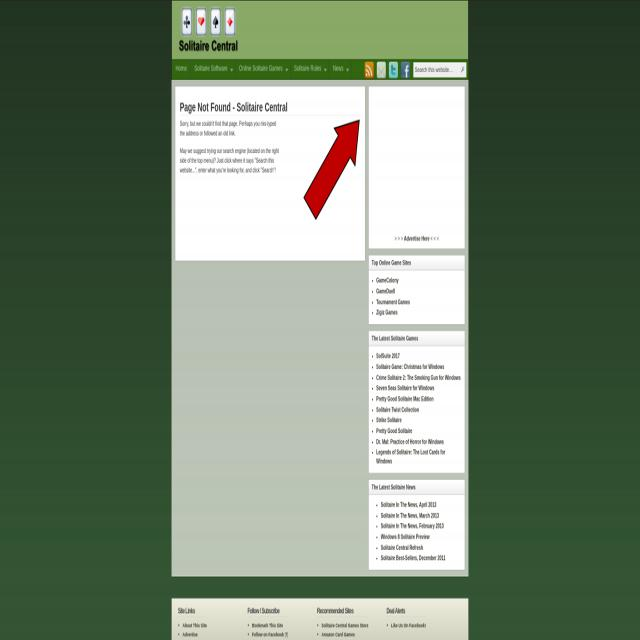button: (297, 118, 361, 220)
field: (415, 66, 460, 73), (460, 66, 465, 74)
